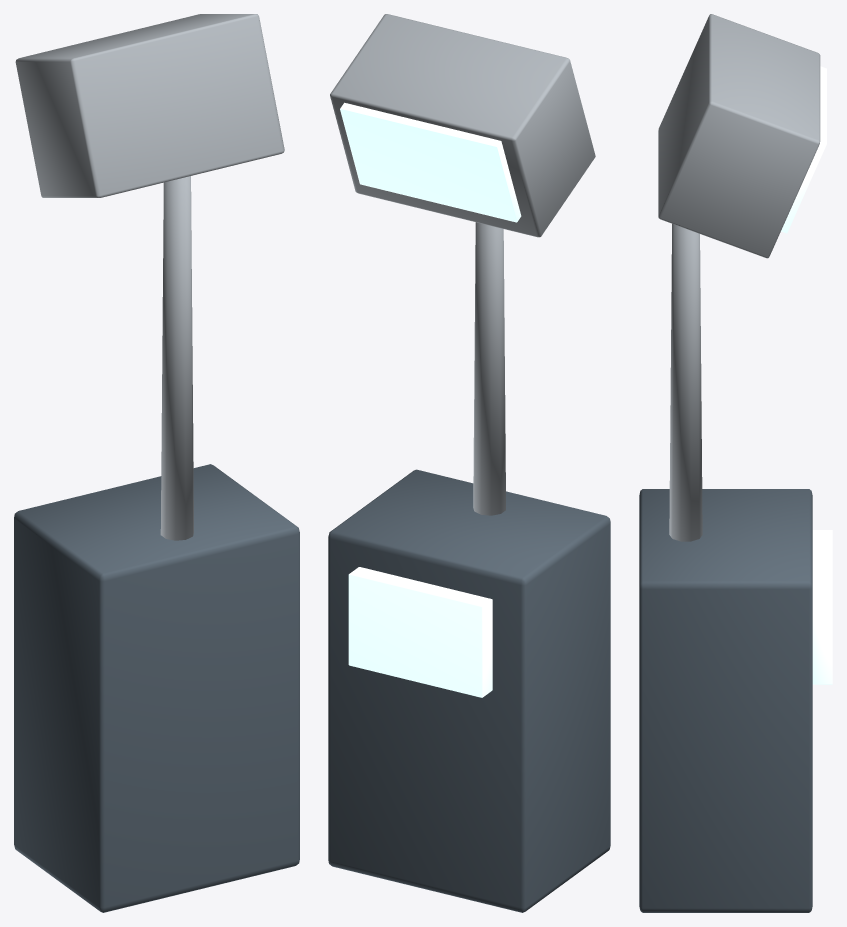
The model's file is SM_Gym_FloodlightSwitch.fbx.
3 renders of one model, left to right at view 1: azimuth 30°, elevation 25°; view 2: azimuth 150°, elevation 25°; view 3: azimuth 270°, elevation 25°, orthographic. The views are drawn at different scales.
Parts seen in each view (by area): view 1: SM_Gym_FloodlightSwitch; view 2: SM_Gym_FloodlightSwitch; view 3: SM_Gym_FloodlightSwitch.
Boxes of the visible parts, left/top/right/bottom form: SM_Gym_FloodlightSwitch: left=14, top=14, right=299, bottom=912; SM_Gym_FloodlightSwitch: left=328, top=14, right=610, bottom=912; SM_Gym_FloodlightSwitch: left=639, top=14, right=832, bottom=912.
Bounding box in the file's own units: 0.68 × 2.68 × 0.58.
